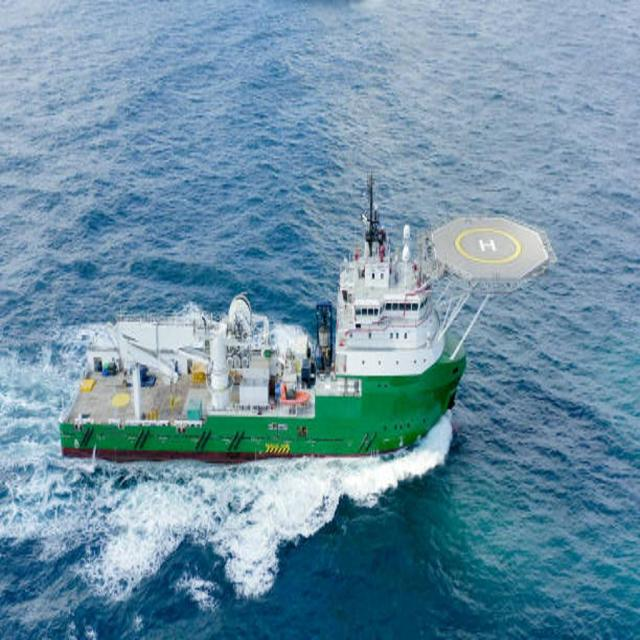helipad: (454, 226, 520, 263)
